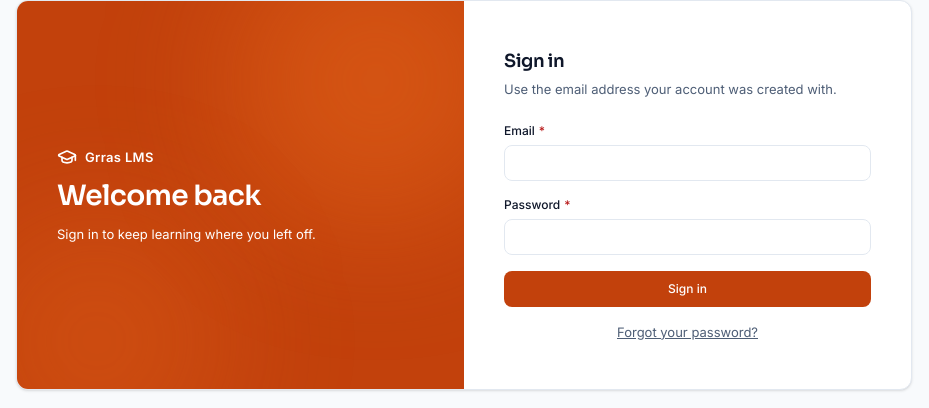
Test: LoginPage › returns to the credentials form from the MFA step without signing in
Type "a@b.test" into the field labelled "Email".
click(688, 163); type("a@b.test")  # box [504,145,871,181]
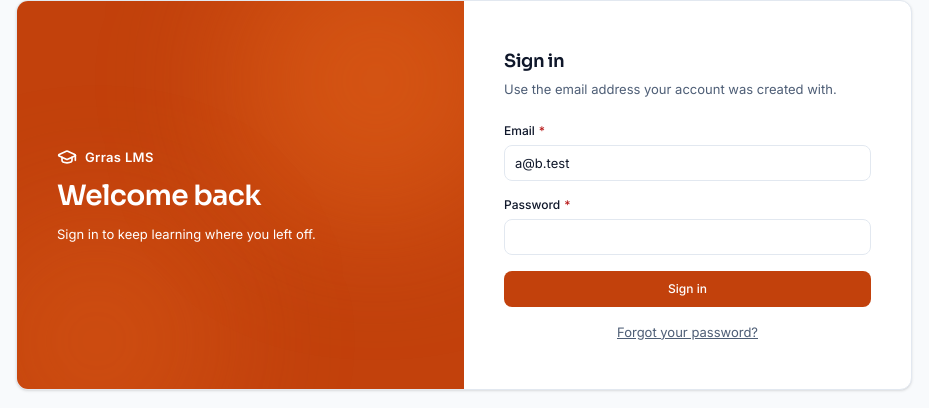
Type "correct-password" into the password field labelled "Password".
click(688, 237); type("correct-password")  # box [504,219,871,255]
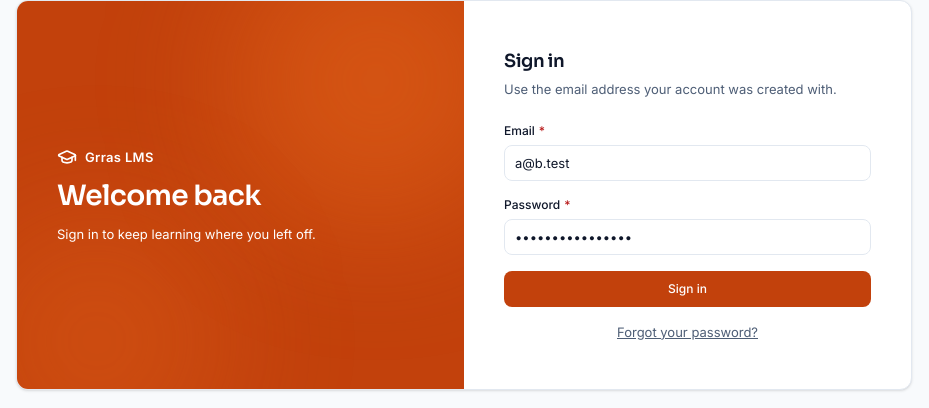
Click the button "Sign in".
click(688, 289)  # box [504,271,871,307]
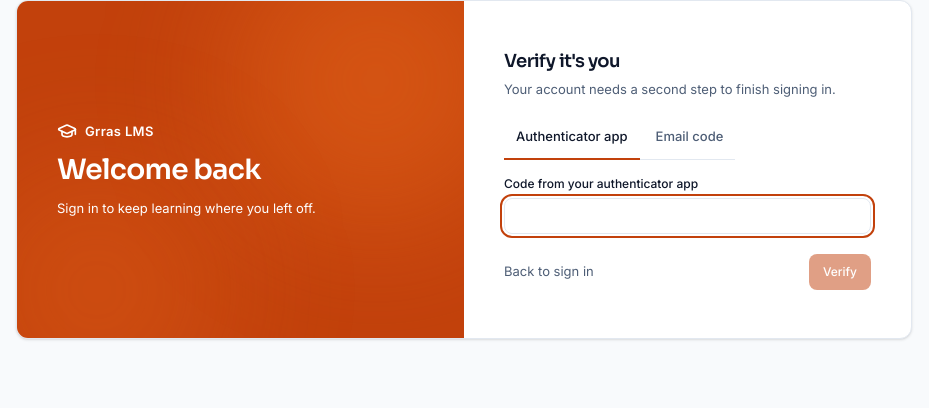
Check: the heading "Verify it's you" is shown, box [504,50,620,72]
Click the button "Back to sign in".
click(549, 272)  # box [504,262,594,281]
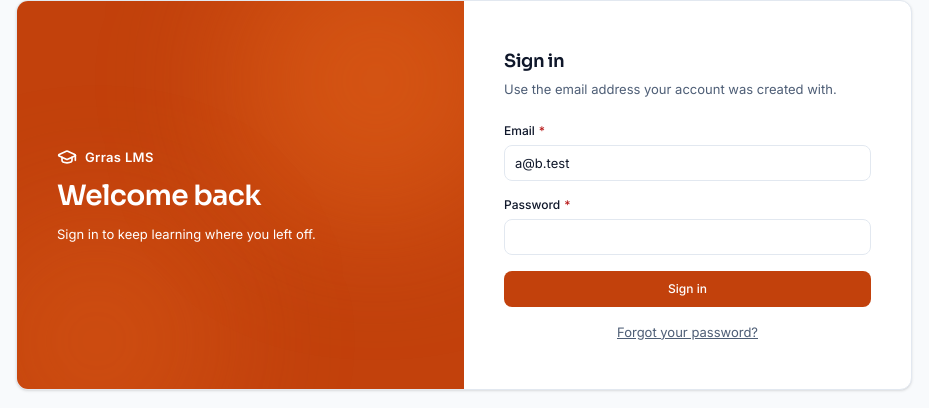
Check: the field labelled "Email" is shown, box [504,145,871,181]
Check: the heading "Verify it's you" is gone
